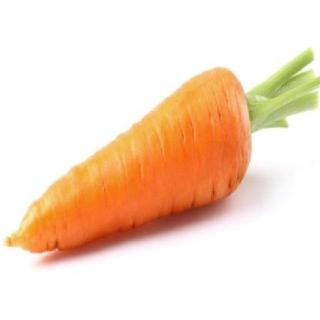carrot: (5, 50, 269, 276)
